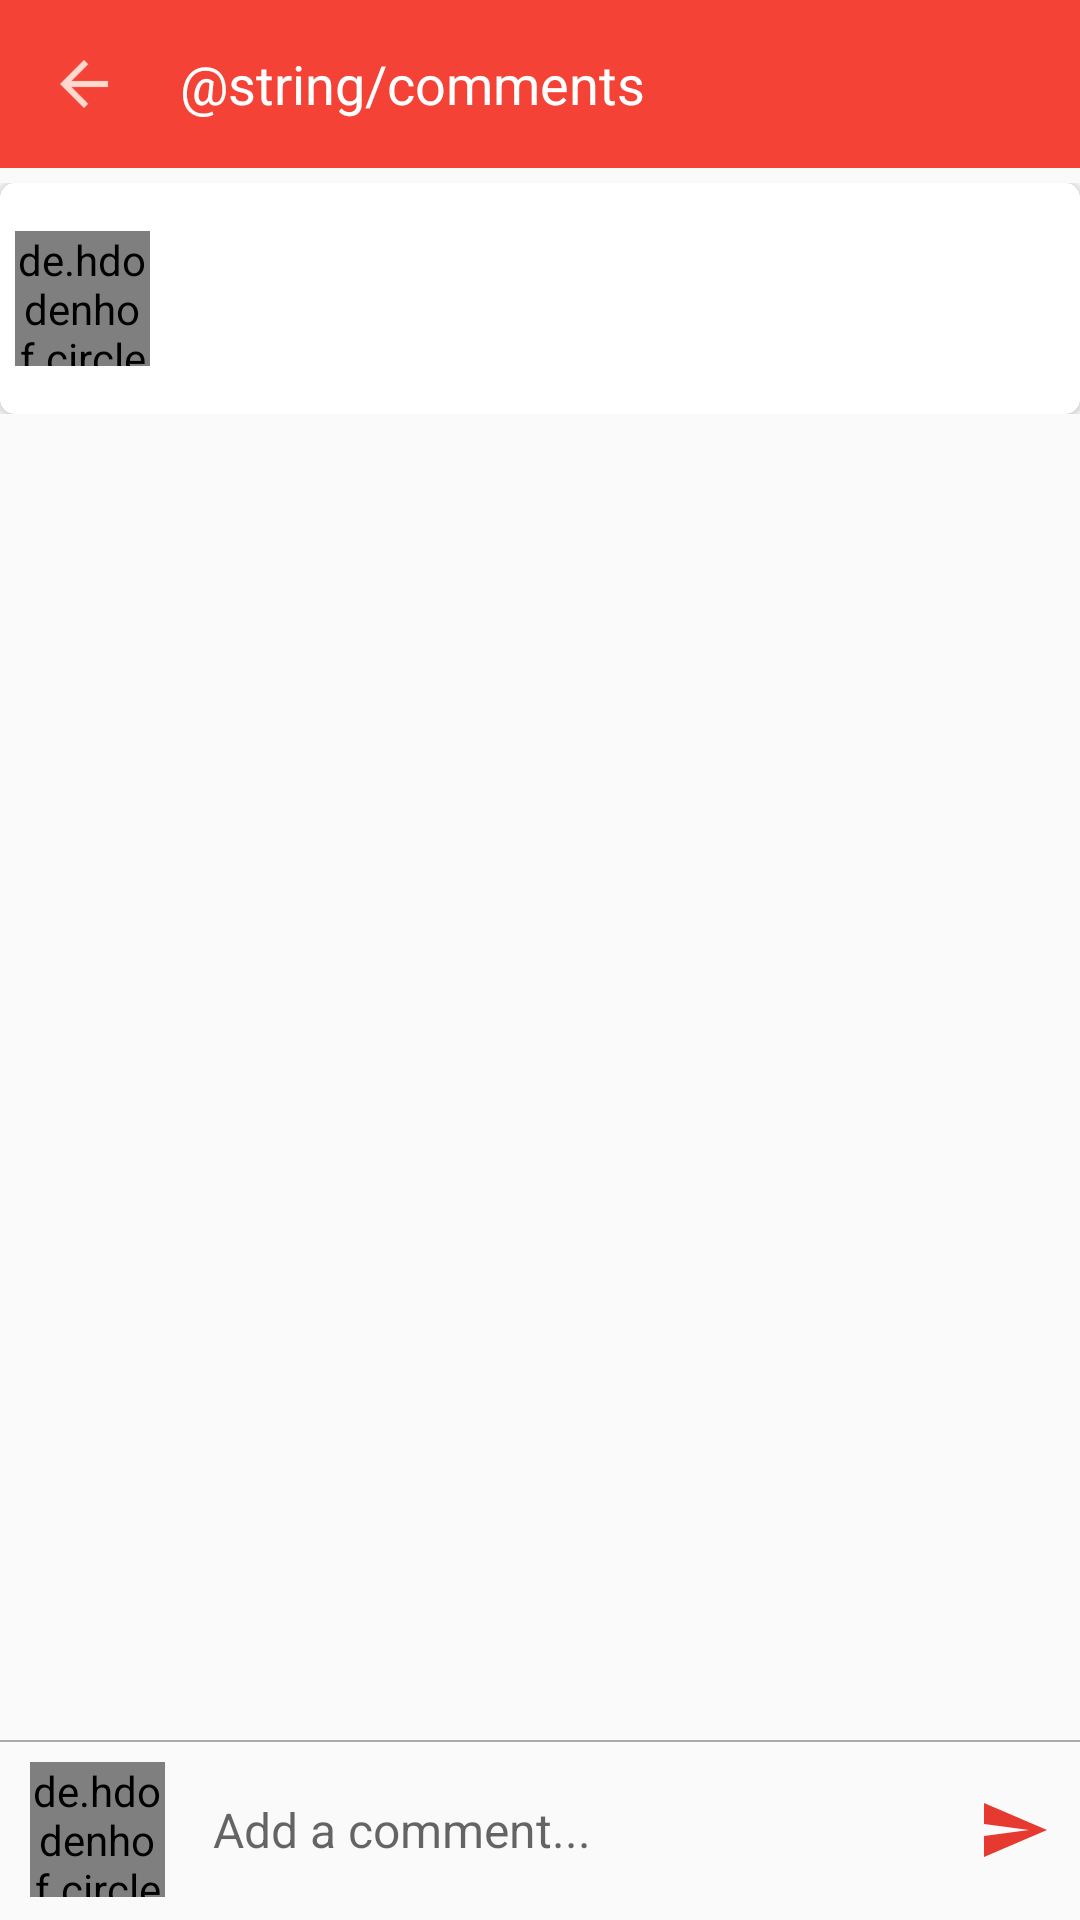

Locate icon controls on the screen. Image size 1080px×1920px, boxes as (x1, y1, x2, y2).
arrow back: (60, 60, 108, 108)
send: (984, 1803, 1047, 1857)
